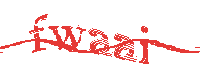a: (88, 26, 112, 57), (114, 32, 136, 62)
f: (30, 13, 49, 52)
i: (137, 24, 152, 65)
w: (48, 24, 87, 53)
